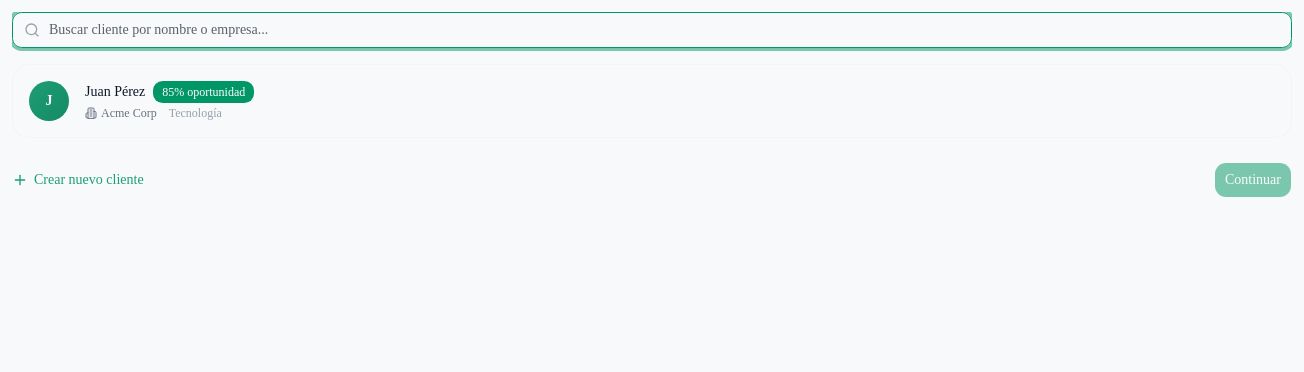
Test: Step1Client — "Analizar" button (selected-client flow) › "Analizar" button is enabled when URL field is filled
Click the text "Juan Pérez" at (115, 92), box [85,82,145,102]
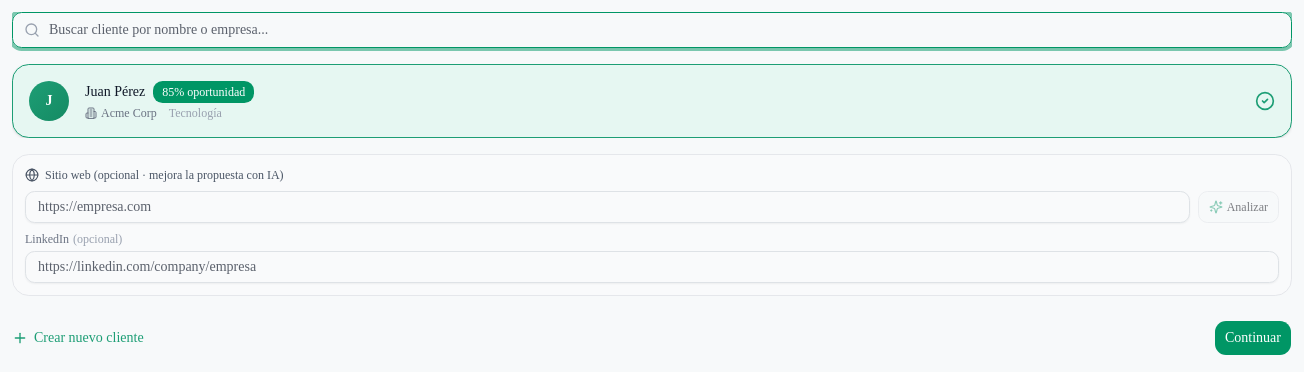
Type "https://acme.com" into the field with placeholder "https://empresa.com" at (607, 207), box [25,191,1190,223]
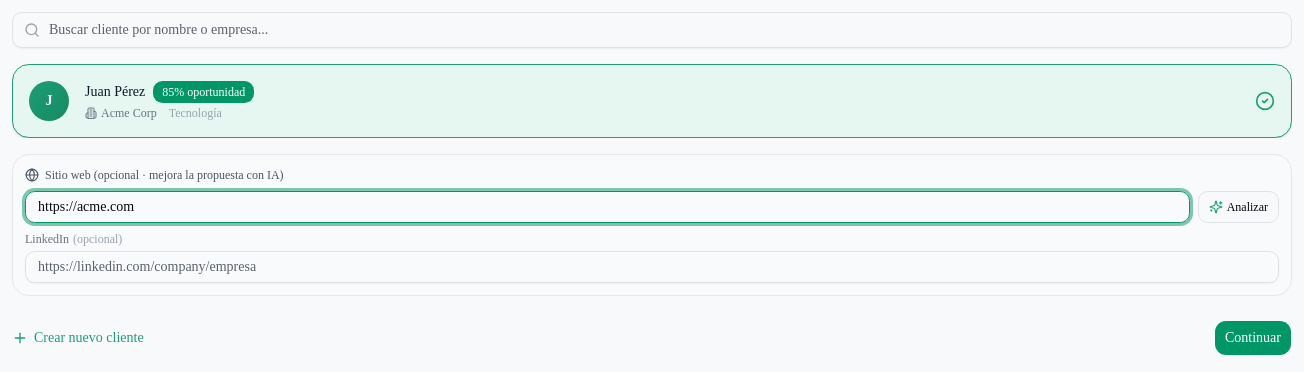
Expected: the button "Analizar" is enabled, [1198,191,1279,223]
